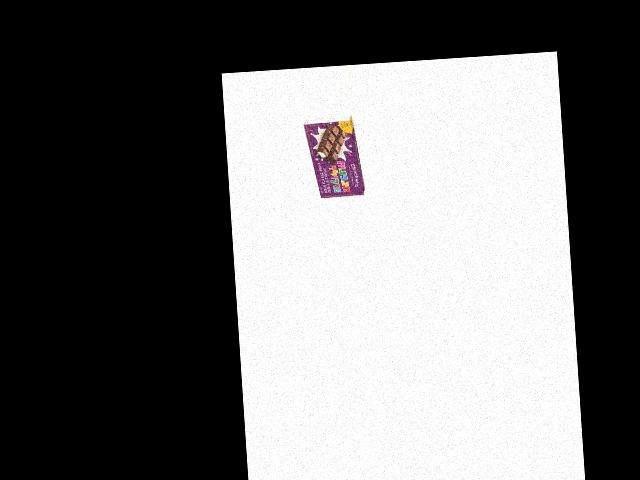chocolate: (307, 113, 365, 204)
